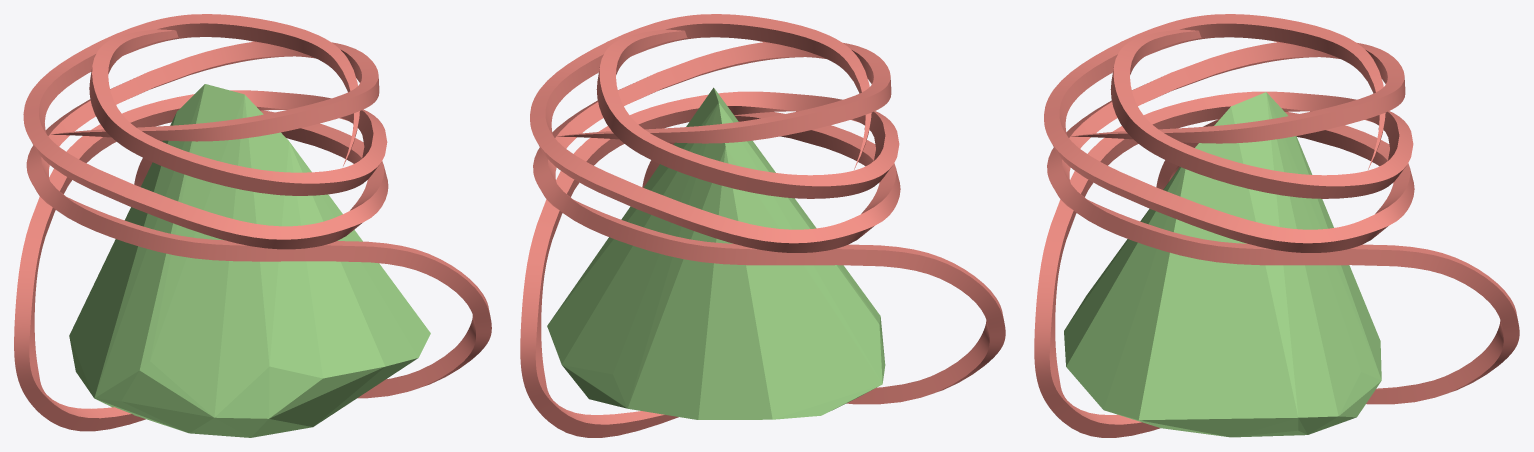
File: alienrock.fbx
3 renders of one model, left to right at view 1: azimuth 30°, elevation 25°; view 2: azimuth 150°, elevation 25°; view 3: azimuth 270°, elevation 25°, orthographic.
Parts seen in each view (by area): view 1: alienrock2; view 2: alienrock2; view 3: alienrock2.
Boxes of the visible parts, box(x1,y1,x2,y2) form: alienrock2: box(14, 14, 491, 437); alienrock2: box(520, 14, 1005, 437); alienrock2: box(1034, 14, 1519, 437).
Size of the model in its own units: 73.24 by 54.15 by 73.1.
